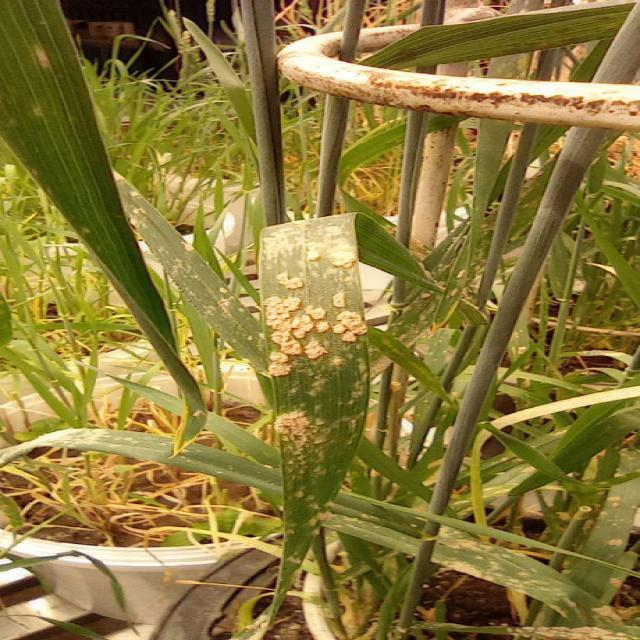Powdery Mildew: (247, 224, 376, 599)
